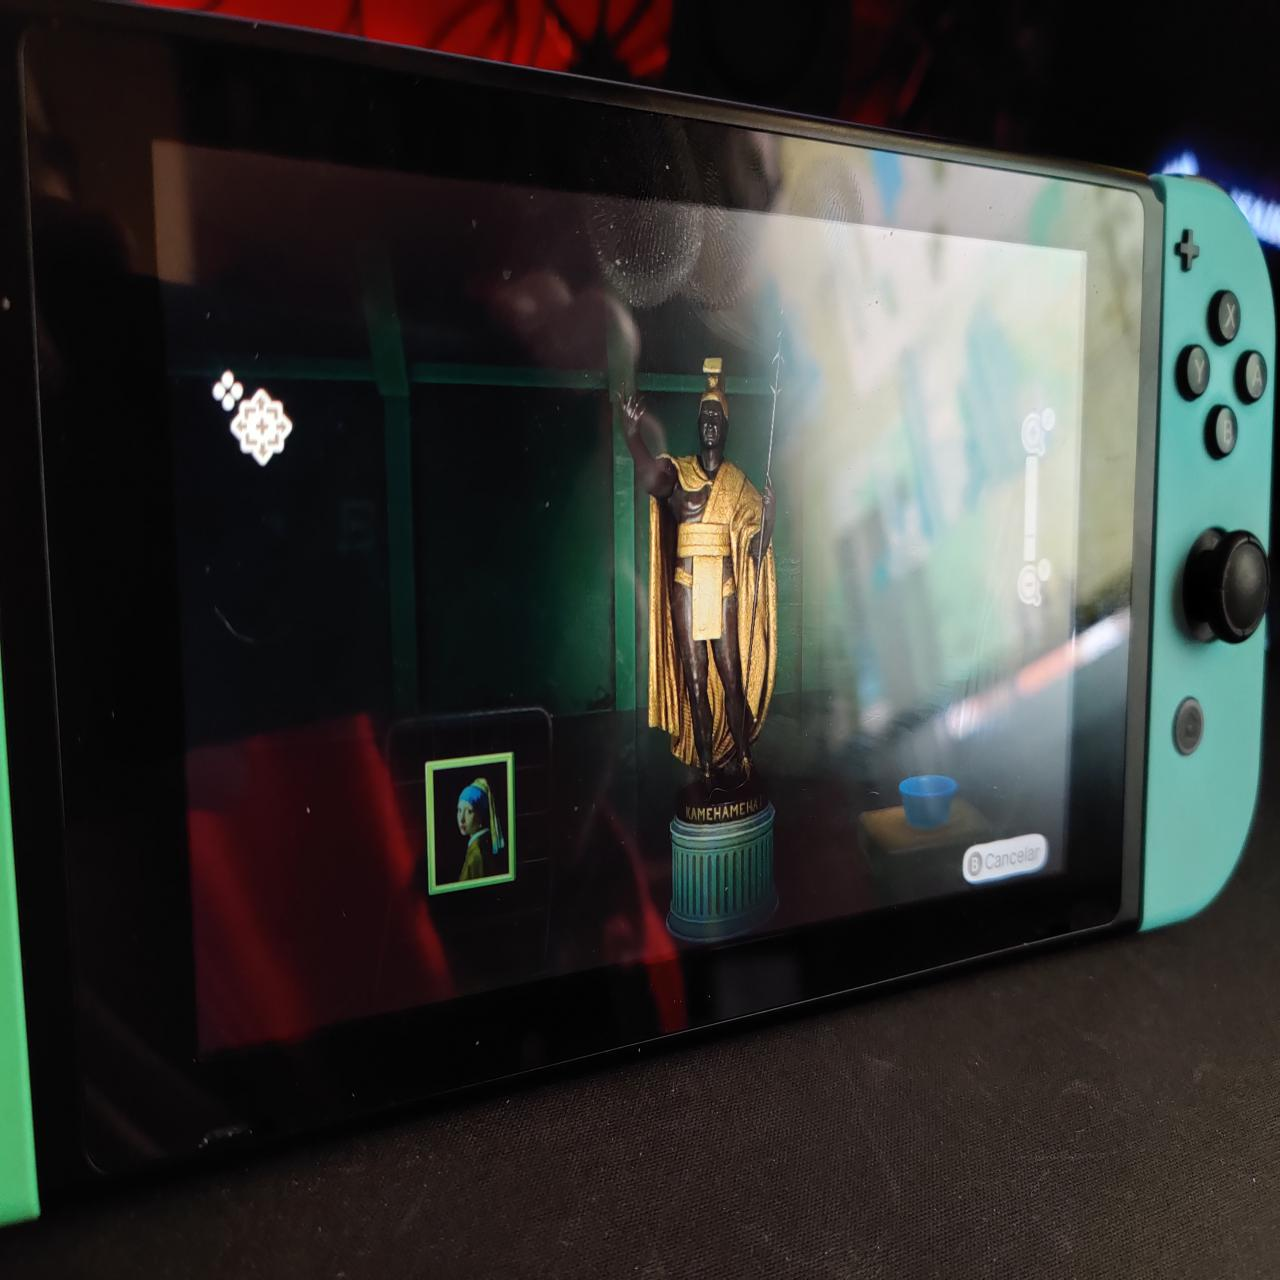Kamehameha: (614, 300, 798, 812)
PearlEarring: (436, 764, 512, 885)
